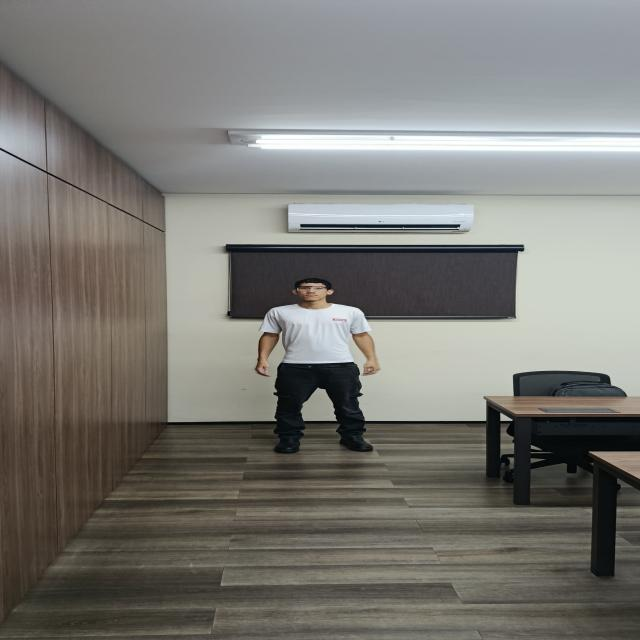sem_oculos: (296, 287, 327, 291)
